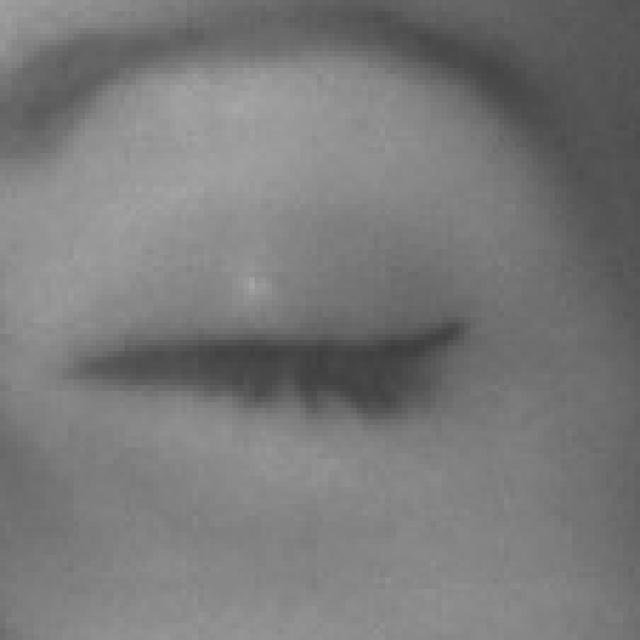Eyeclosed: (71, 176, 499, 559)
